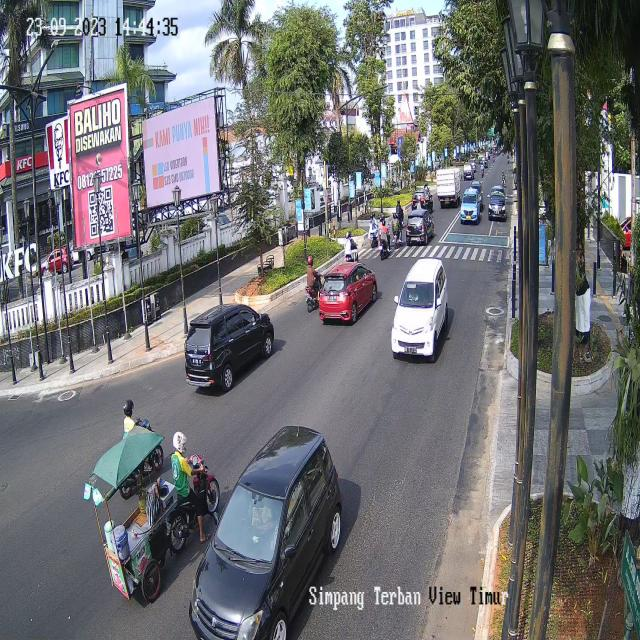car: (187, 424, 343, 637), (186, 302, 275, 394), (389, 258, 451, 364), (318, 259, 378, 324), (406, 210, 435, 246), (461, 188, 481, 224), (488, 183, 506, 223)
motorcycle: (167, 425, 218, 549), (116, 398, 162, 491), (305, 255, 321, 312), (342, 224, 359, 274), (378, 217, 390, 264), (367, 205, 378, 246), (392, 207, 403, 247), (394, 192, 406, 217)
